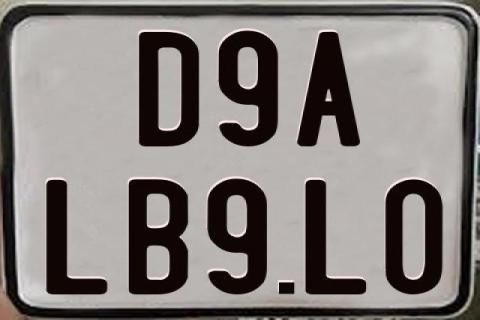0: (218, 29, 281, 147), (384, 179, 445, 297), (204, 178, 266, 294)
A: (296, 30, 362, 148)
B: (128, 178, 190, 294)
D: (137, 32, 202, 146)
L: (45, 180, 112, 298), (302, 180, 364, 295)
